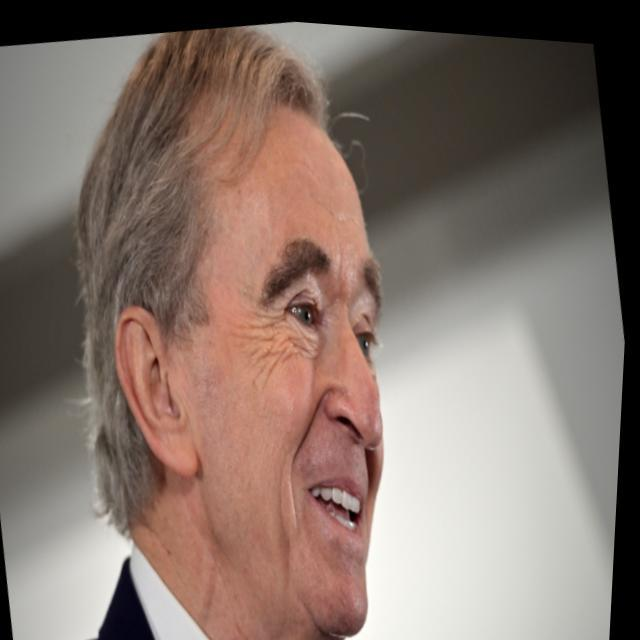Nonhelmet: (67, 24, 397, 638)
